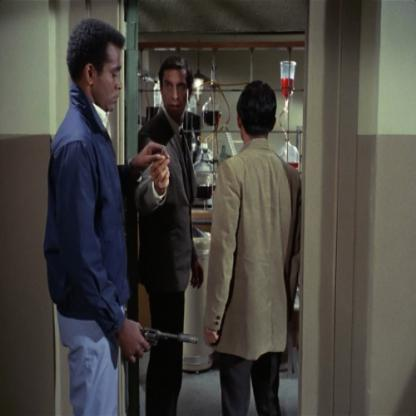Gun: (131, 313, 196, 366)
